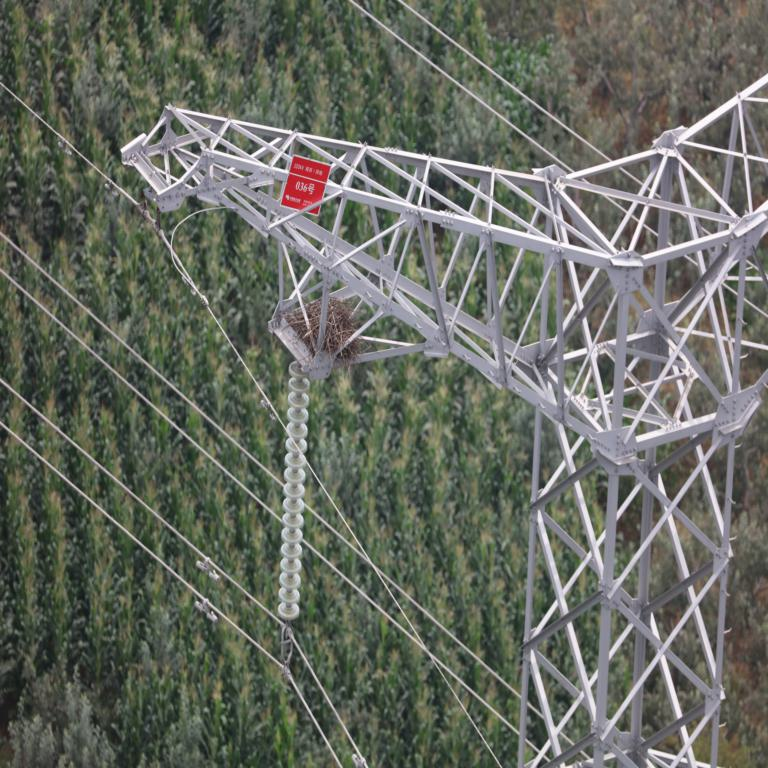nest: (293, 302, 351, 359)
